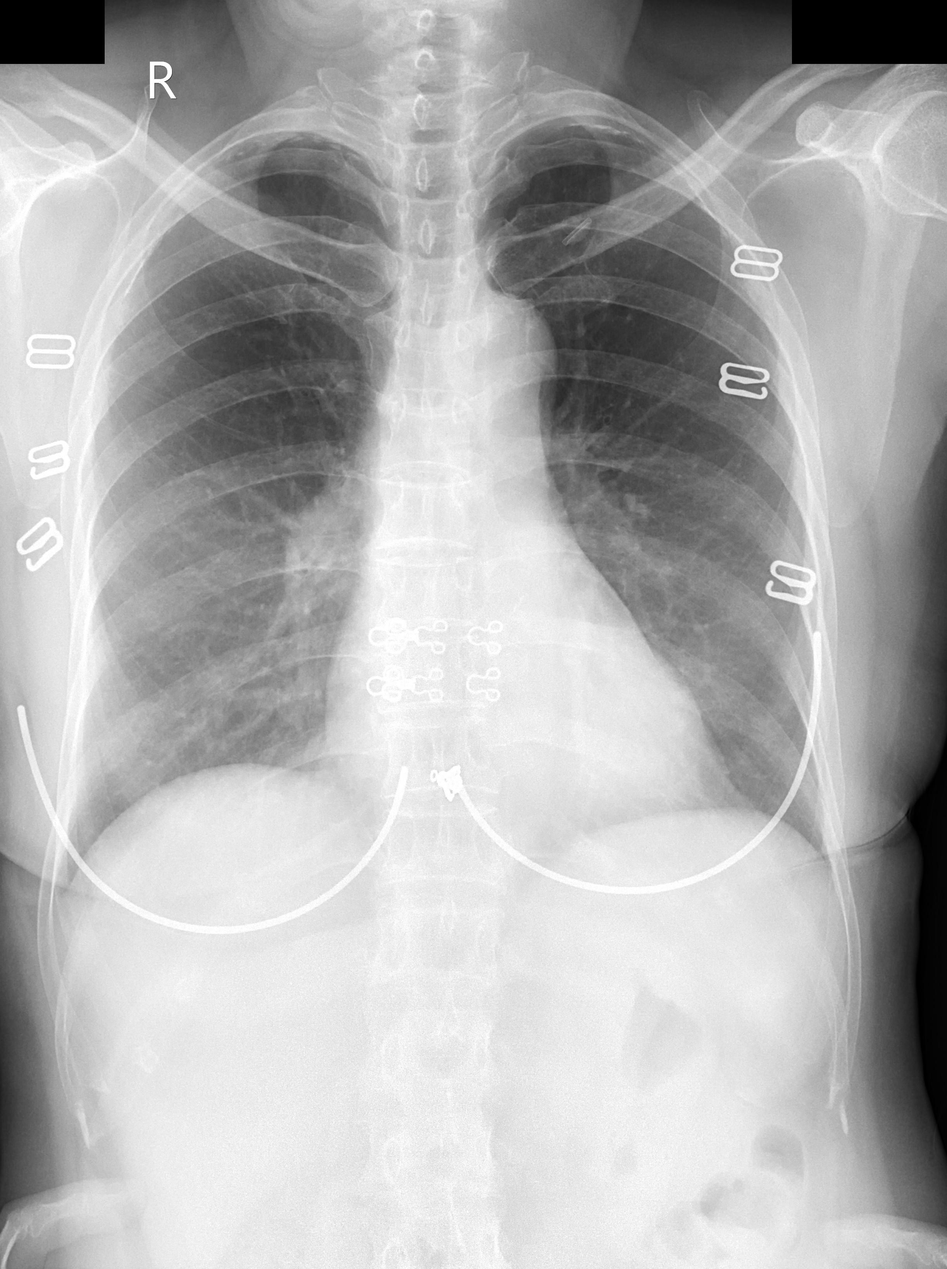Aortic enlargement: (456, 284, 556, 435)
Cardiomegaly: (317, 695, 742, 822)
Pleural thickening: (530, 107, 692, 173), (217, 114, 357, 166)
